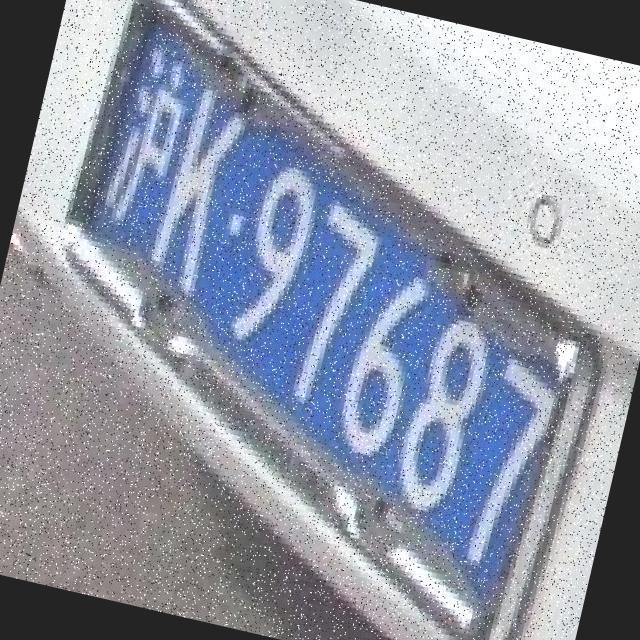license-plate: (122, 19, 590, 610)
